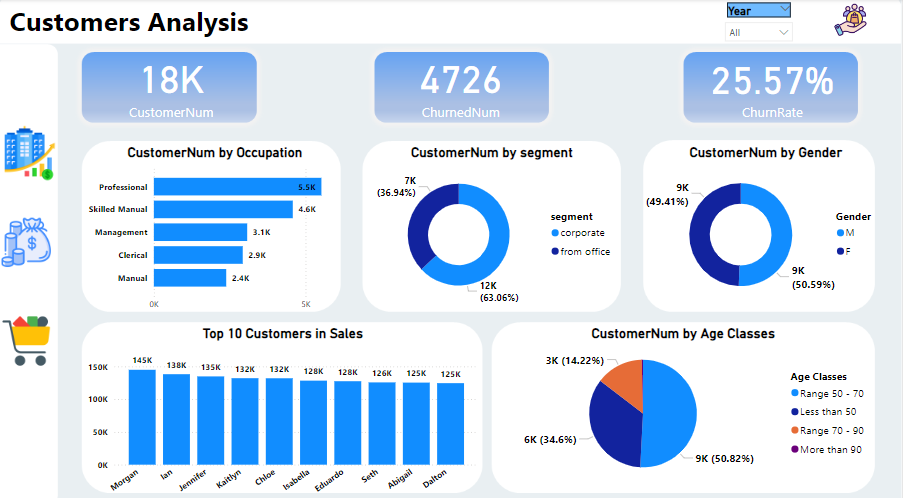

What the dashboard file says about the page in this screenshot:
{"tool":"powerbi","page":{"name":"Customers","canvas":[1280,720],"ordinal":2},"visuals":[{"type":"textbox","box":[11.3,0,392.6,59.5],"z":0},{"type":"image","box":[0,440.6,79.7,88.4],"z":1000},{"type":"image","box":[0,301.4,79.7,85.5],"z":2000},{"type":"image","box":[1136.2,0,143.5,59.4],"z":3000},{"type":"image","box":[0,163.8,89.9,107.2],"z":4000},{"type":"card","fields":{"Values":["dim_Customer.CustomerNum"]},"box":[121.7,66.7,247.8,107.2],"z":5000},{"type":"card","fields":{"Values":["dim_Customer.ChurnedNum"]},"box":[533.3,66.7,246.4,107.2],"z":6000},{"type":"card","fields":{"Values":["dim_Customer.ChurnRate"]},"box":[973.9,44.9,247.8,150.7],"z":7000},{"type":"columnChart","title":"Top 10 Customers in Sales","fields":{"Category":["dim_Customer.FirstName"],"Y":["fact_InternetSales.TotalSales"]},"box":[121.7,462.3,563.8,258],"z":8000},{"type":"donutChart","fields":{"Category":["dim_Customer.Gender"],"Y":["dim_Customer.CustomerNum"]},"box":[913,205.8,350.7,234.8],"z":9000},{"type":"pieChart","fields":{"Y":["dim_Customer.CustomerNum"],"Category":["dim_Customer.Age Classes"]},"box":[700,462.3,542,229],"z":10000},{"type":"barChart","title":"CustomerNum by Occupation","fields":{"Y":["dim_Customer.CustomerNum"],"Category":["dim_Customer.EnglishOccupation"]},"box":[121.7,205.8,371,244.9],"z":11000},{"type":"donutChart","fields":{"Category":["dim_Customer.segment"],"Y":["dim_Customer.CustomerNum"]},"box":[517.4,205.8,365.2,234.8],"z":12000},{"type":"slicer","fields":{"Values":["Calender.Year"]},"box":[1020.5,0,116.2,68],"z":13000}]}

Visuals, with their boxes in screenshot pixels (x1, y1, x2, y2), scaled from the page's 1280x720 canvas onto the 903x498 screenshot:
textbox: <region>8, 0, 285, 41</region>
image: <region>0, 305, 56, 366</region>
image: <region>0, 208, 56, 268</region>
image: <region>802, 0, 902, 41</region>
image: <region>0, 113, 63, 187</region>
card - dim_Customer.CustomerNum: <region>86, 46, 261, 120</region>
card - dim_Customer.ChurnedNum: <region>376, 46, 550, 120</region>
card - dim_Customer.ChurnRate: <region>687, 31, 862, 135</region>
"Top 10 Customers in Sales" columnChart: <region>86, 320, 484, 497</region>
donutChart - dim_Customer.Gender x dim_Customer.CustomerNum: <region>644, 142, 892, 305</region>
pieChart - dim_Customer.CustomerNum x dim_Customer.Age Classes: <region>494, 320, 876, 478</region>
"CustomerNum by Occupation" barChart: <region>86, 142, 348, 312</region>
donutChart - dim_Customer.segment x dim_Customer.CustomerNum: <region>365, 142, 623, 305</region>
slicer - Calender.Year: <region>720, 0, 802, 47</region>
